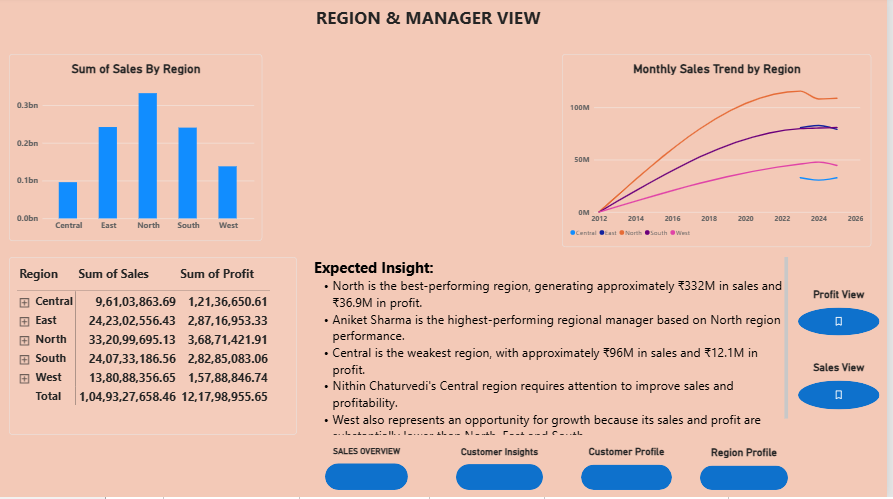

The page's visual inventory and layout, read from the dashboard file:
{"tool":"powerbi","page":{"name":"Region & Manager View","canvas":[1920,1080],"ordinal":5},"visuals":[{"type":"pivotTable","fields":{"Rows":["Orders.Region","Zone.Region Manager"],"Values":["Sum(Orders.Sales)","Sum(Orders.Profit)"]},"box":[21.6,561.6,622.1,384.5],"z":1000},{"type":"textbox","box":[680.4,561.6,1023.8,384.5],"z":2000},{"type":"textbox","box":[151.2,17.3,1553,86.4],"z":3000},{"type":"actionButton","title":"SALES OVERVIEW","box":[704.2,969.8,179.3,95],"z":4000},{"type":"actionButton","title":"Customer Insights","box":[987.1,969.8,187.9,95],"z":5000},{"type":"actionButton","title":"Customer Profile","box":[1257.1,969.8,196.6,95],"z":6000},{"type":"actionButton","title":"Region Profile","box":[1514.2,969.8,190.1,95],"z":7000},{"type":"lineChart","title":"Monthly Sales Trend by Region","fields":{"Category":["DateTable.Year","DateTable.Month"],"Series":["Orders.Region"],"Y":["Sum(Orders.Sales)"]},"box":[1216.7,122.8,667.5,417.5],"z":8000},{"type":"actionButton","title":"Sales View","box":[1725.8,785.9,176.4,104.9],"z":9000},{"type":"actionButton","title":"Profit View","box":[1725.8,629.6,176.4,102.7],"z":10000},{"type":"columnChart","title":"Sum of Sales By Region","fields":{"Category":["Orders.Region","Orders.State","Orders.City"],"Y":["Sum(Orders.Sales)"]},"box":[22.3,122.8,547,404.1],"z":11000}]}

Visuals, with their boxes in screenshot pixels (x1, y1, x2, y2), scaled from the page's 1920x1080 canvas onto the 893x499 screenshot:
pivotTable - Orders.Region x Zone.Region Manager: pyautogui.locateOnScreen(10, 259, 299, 437)
textbox: pyautogui.locateOnScreen(316, 259, 793, 437)
textbox: pyautogui.locateOnScreen(70, 8, 793, 48)
"SALES OVERVIEW" actionButton: pyautogui.locateOnScreen(328, 448, 411, 492)
"Customer Insights" actionButton: pyautogui.locateOnScreen(459, 448, 546, 492)
"Customer Profile" actionButton: pyautogui.locateOnScreen(585, 448, 676, 492)
"Region Profile" actionButton: pyautogui.locateOnScreen(704, 448, 793, 492)
"Monthly Sales Trend by Region" lineChart: pyautogui.locateOnScreen(566, 57, 876, 250)
"Sales View" actionButton: pyautogui.locateOnScreen(803, 363, 885, 412)
"Profit View" actionButton: pyautogui.locateOnScreen(803, 291, 885, 338)
"Sum of Sales By Region" columnChart: pyautogui.locateOnScreen(10, 57, 265, 243)
